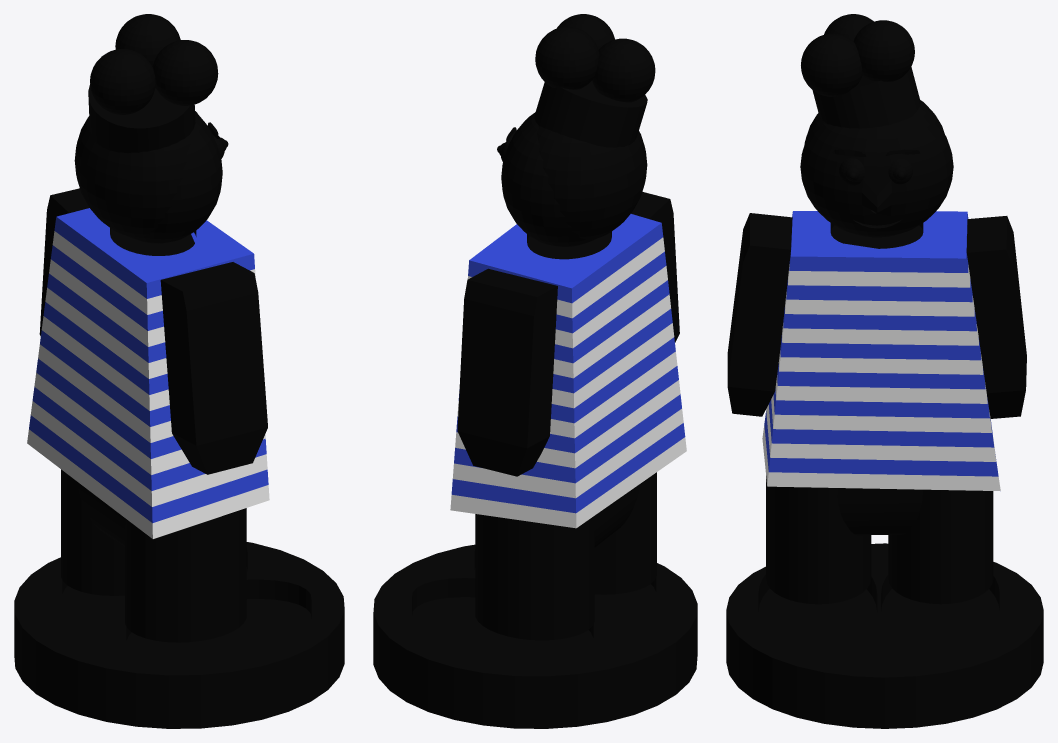
Rendered from Кок.fbx.
The picture shows the model from 3 angles, left to right: view 1: azimuth 30°, elevation 25°; view 2: azimuth 150°, elevation 25°; view 3: azimuth 270°, elevation 25°; orthographic projection. The views are drawn at different scales.
Visible parts, largest first — view 1: Cube.006; view 2: Cube.006; view 3: Cube.006.
Part boxes in pixels (box(x1,y1,x2,y2)): Cube.006: box(14, 14, 344, 728); Cube.006: box(373, 14, 697, 728); Cube.006: box(726, 14, 1043, 728).
Bounding box in the file's own units: 800 × 1734 × 800.
